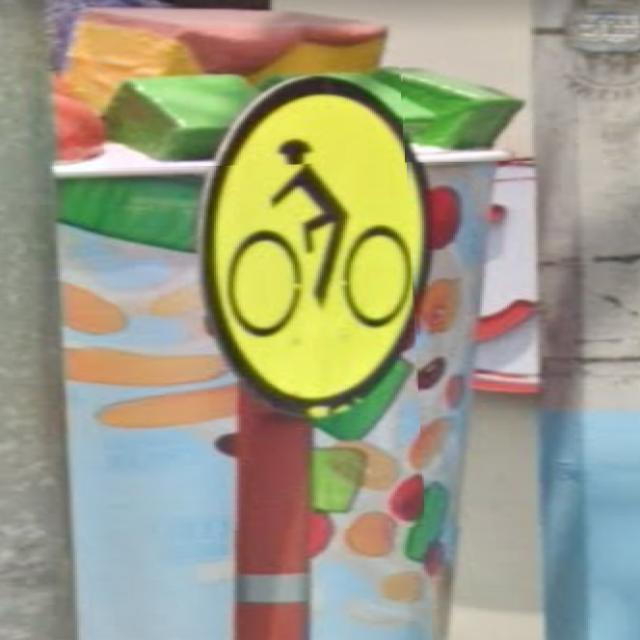bike lane: (199, 75, 426, 417)
